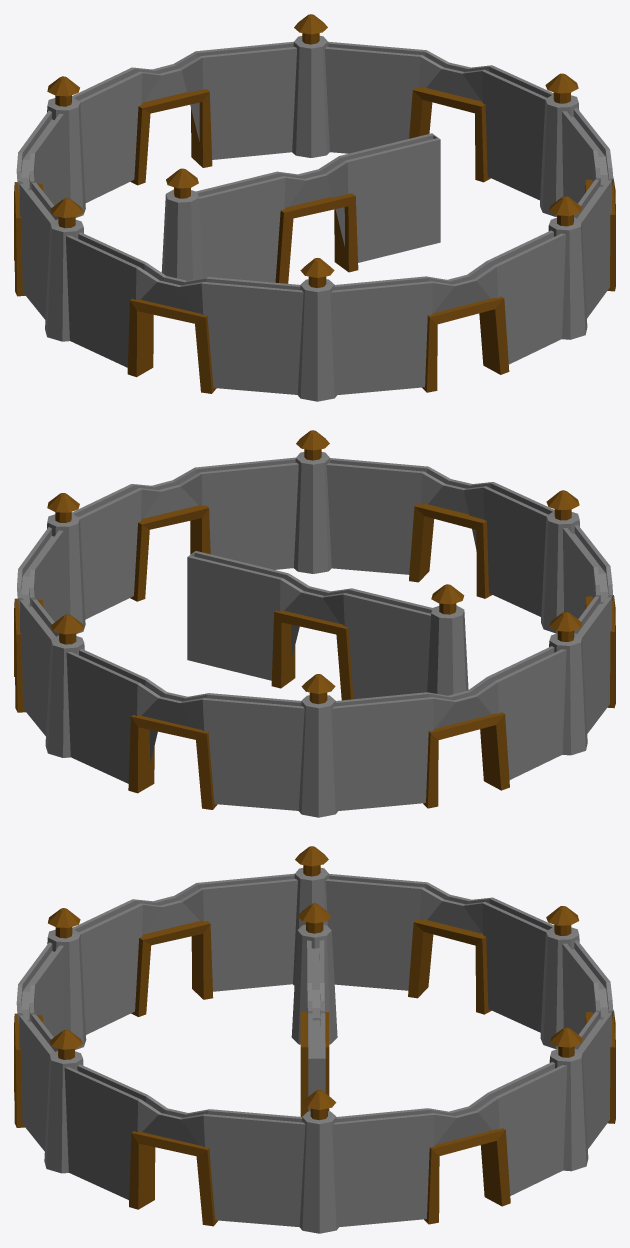
The model's file is Medieval.fbx_Castle.fbx.
3 renders of one model, top to bottom at view 1: azimuth 30°, elevation 25°; view 2: azimuth 150°, elevation 25°; view 3: azimuth 270°, elevation 25°, orthographic.
Parts seen in each view (by area): view 1: SixDoorCircle, DoorSegment; view 2: SixDoorCircle, DoorSegment; view 3: SixDoorCircle, DoorSegment.
Part boxes in pixels (left/top/right/bottom): SixDoorCircle: left=14, top=14, right=615, bottom=401; DoorSegment: left=161, top=133, right=440, bottom=283; SixDoorCircle: left=14, top=430, right=615, bottom=817; DoorSegment: left=187, top=551, right=468, bottom=700; SixDoorCircle: left=14, top=846, right=615, bottom=1233; DoorSegment: left=291, top=903, right=337, bottom=1116.
Bounding box in the file's own units: 9653 × 9336 × 2354.
